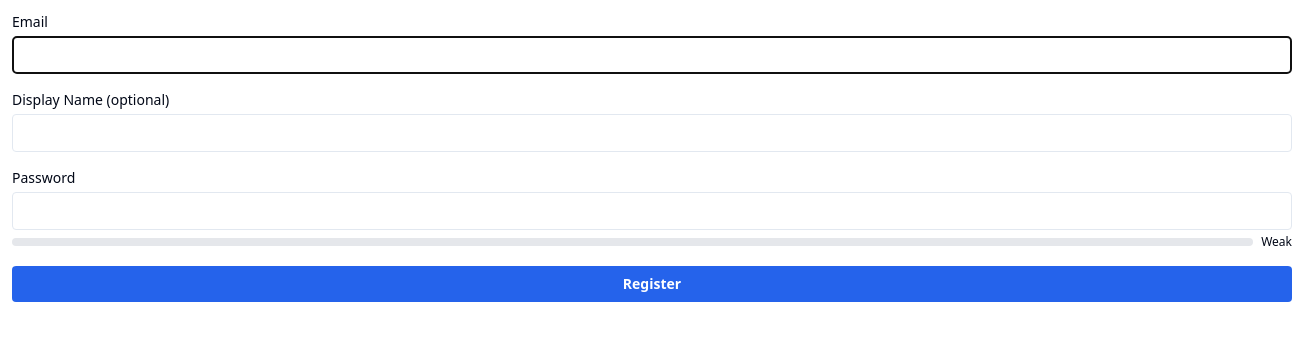
Test: RegisterForm › shows required error when empty submit
Click the button with test id "reg-submit": (652, 284) x1=12 y1=266 x2=1292 y2=302
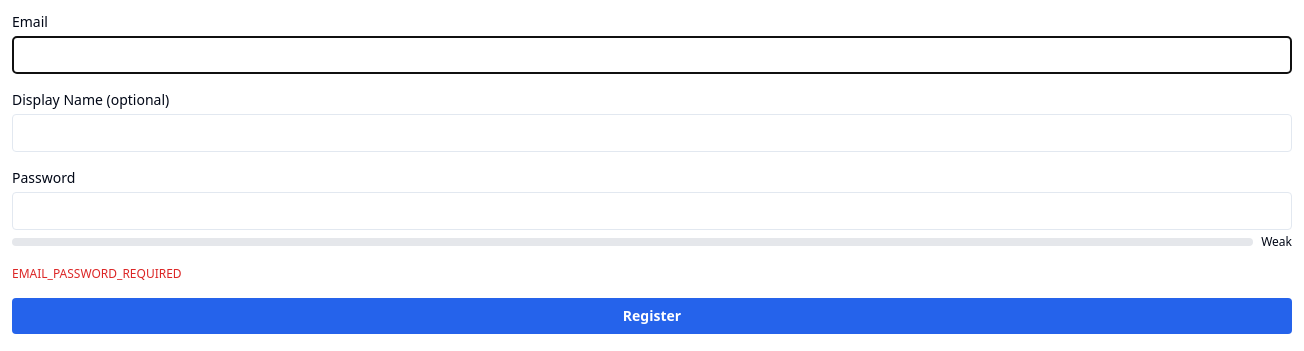
Check: the message with test id "reg-error" reads "EMAIL_PASSWORD_REQUIRED", box x1=12 y1=265 x2=182 y2=282
